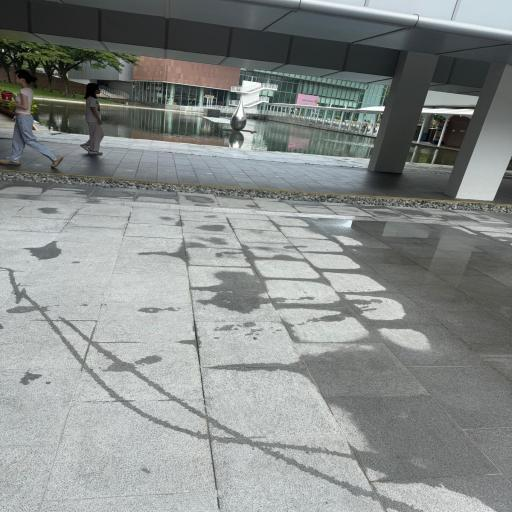person_left: (0, 69, 64, 168)
person_right: (80, 82, 104, 156)
